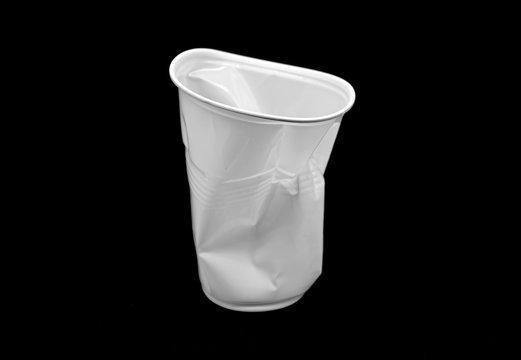cup-disposable: (166, 45, 358, 315)
